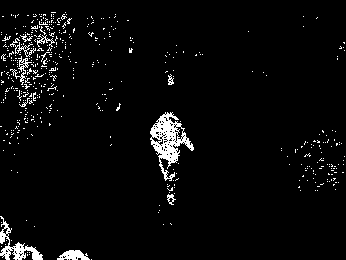person: (150, 111, 193, 206)
